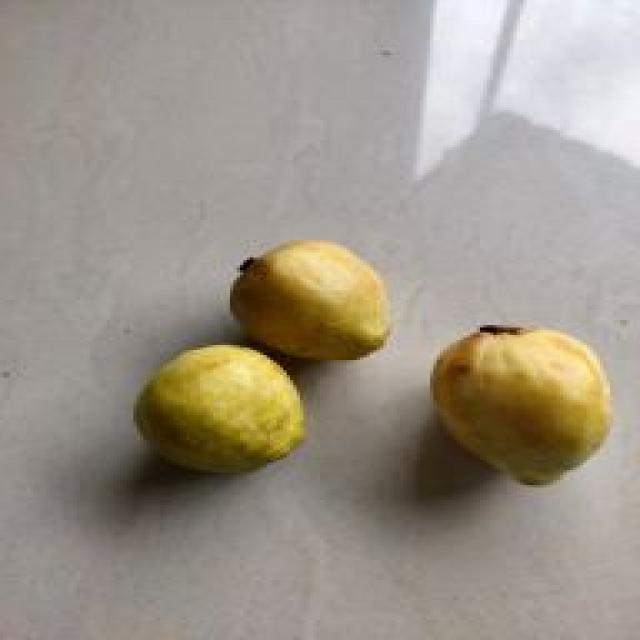Good_Guava: (430, 325, 610, 490), (133, 345, 307, 478), (227, 240, 393, 362)
